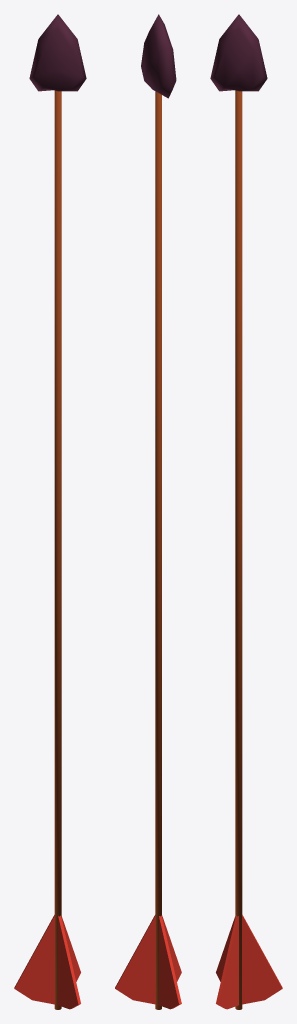
The model's file is Arrow.fbx.
3 views of the same model, side by side, from view 1: azimuth 90°, elevation 25°; view 2: azimuth 210°, elevation 25°; view 3: azimuth 270°, elevation 25° (orthographic).
Visible parts, largest first — view 1: ArrowShaft, ArrowHead, Fletching1, Fletching3, Fletching2; view 2: ArrowShaft, Fletching2, ArrowHead, Fletching1, Fletching3; view 3: ArrowShaft, ArrowHead, Fletching1, Fletching2, Fletching3.
Boxes of the visible parts, bbox=[...] form: ArrowShaft: bbox=[54, 90, 61, 1009]; ArrowHead: bbox=[29, 14, 86, 91]; Fletching1: bbox=[14, 915, 54, 1004]; Fletching3: bbox=[58, 915, 80, 1009]; Fletching2: bbox=[61, 916, 80, 981]; ArrowShaft: bbox=[155, 91, 161, 1009]; Fletching2: bbox=[115, 915, 155, 1004]; ArrowHead: bbox=[141, 14, 176, 98]; Fletching1: bbox=[159, 915, 181, 1009]; Fletching3: bbox=[162, 915, 181, 981]; ArrowShaft: bbox=[235, 90, 242, 1009]; ArrowHead: bbox=[210, 14, 267, 91]; Fletching1: bbox=[242, 915, 282, 1004]; Fletching2: bbox=[216, 915, 238, 1009]; Fletching3: bbox=[216, 916, 235, 981].
Size of the model in its own units: 4.86 by 69.12 by 4.55.
